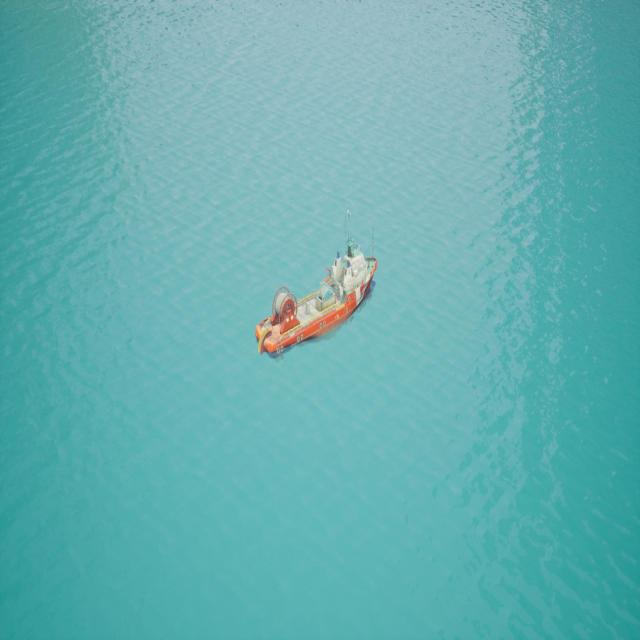tug boat: (235, 211, 410, 392)
